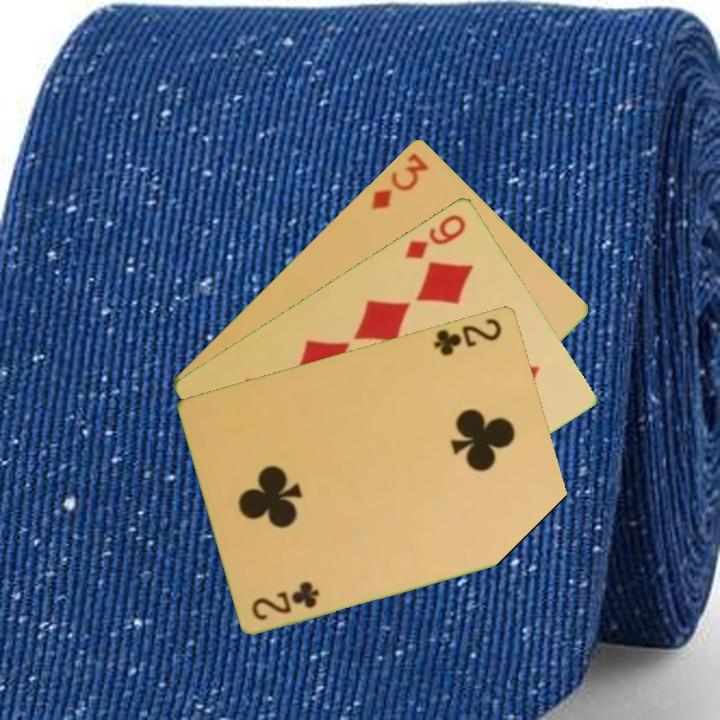2c: (430, 314, 505, 359), (248, 579, 323, 623)
3d: (367, 148, 432, 212)
9d: (400, 210, 469, 262)
